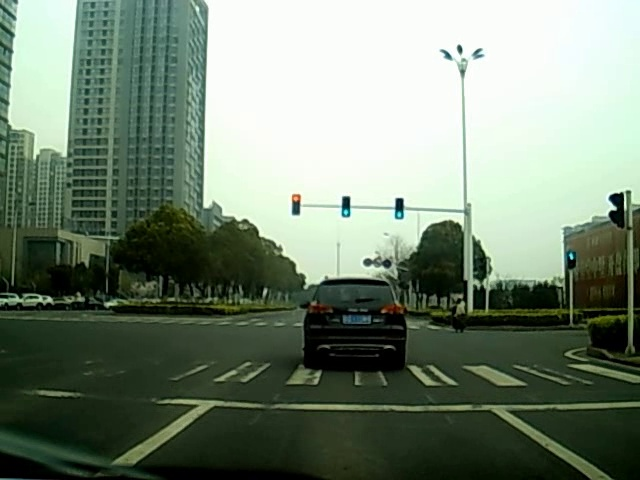Traffic_Light_go: (341, 197, 350, 218), (395, 197, 404, 218)
Traffic_Light_stop: (291, 194, 300, 216)
